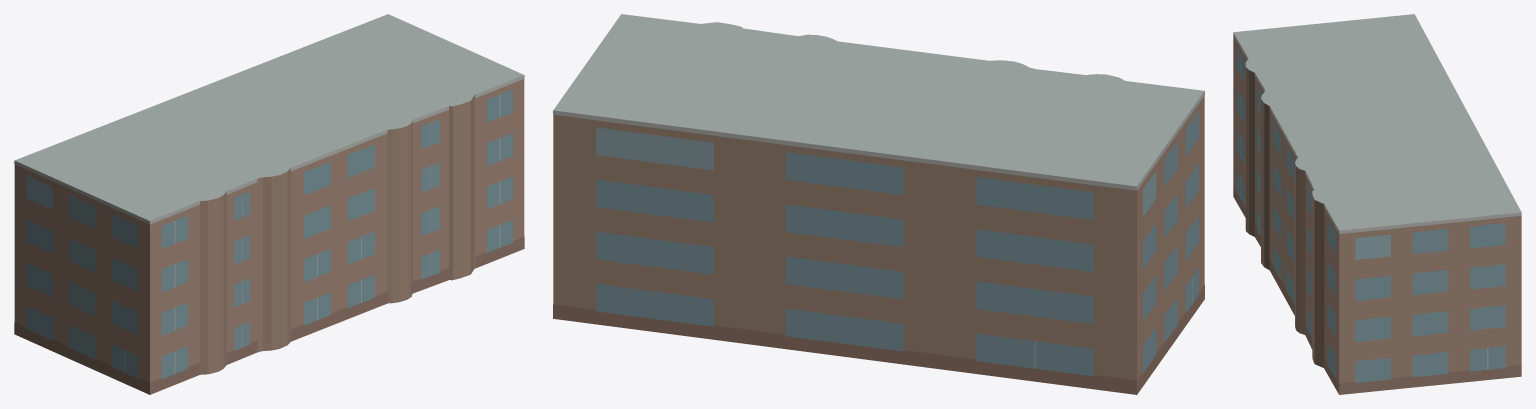
The model's file is survey-upis-33043017.glb.
3 views of the same model, side by side, from view 1: azimuth 30°, elevation 25°; view 2: azimuth 150°, elevation 25°; view 3: azimuth 270°, elevation 25° (orthographic). The views are drawn at different scales.
Parts seen in each view (by area): view 1: survey-upis-33043017.tmp; view 2: survey-upis-33043017.tmp; view 3: survey-upis-33043017.tmp.
Boxes of the visible parts, x1,y1,x2,y2 form: survey-upis-33043017.tmp: (14, 14, 524, 394); survey-upis-33043017.tmp: (553, 14, 1204, 394); survey-upis-33043017.tmp: (1233, 14, 1521, 394).
Size of the model in its own units: 33.12 by 11.7 by 18.63.
